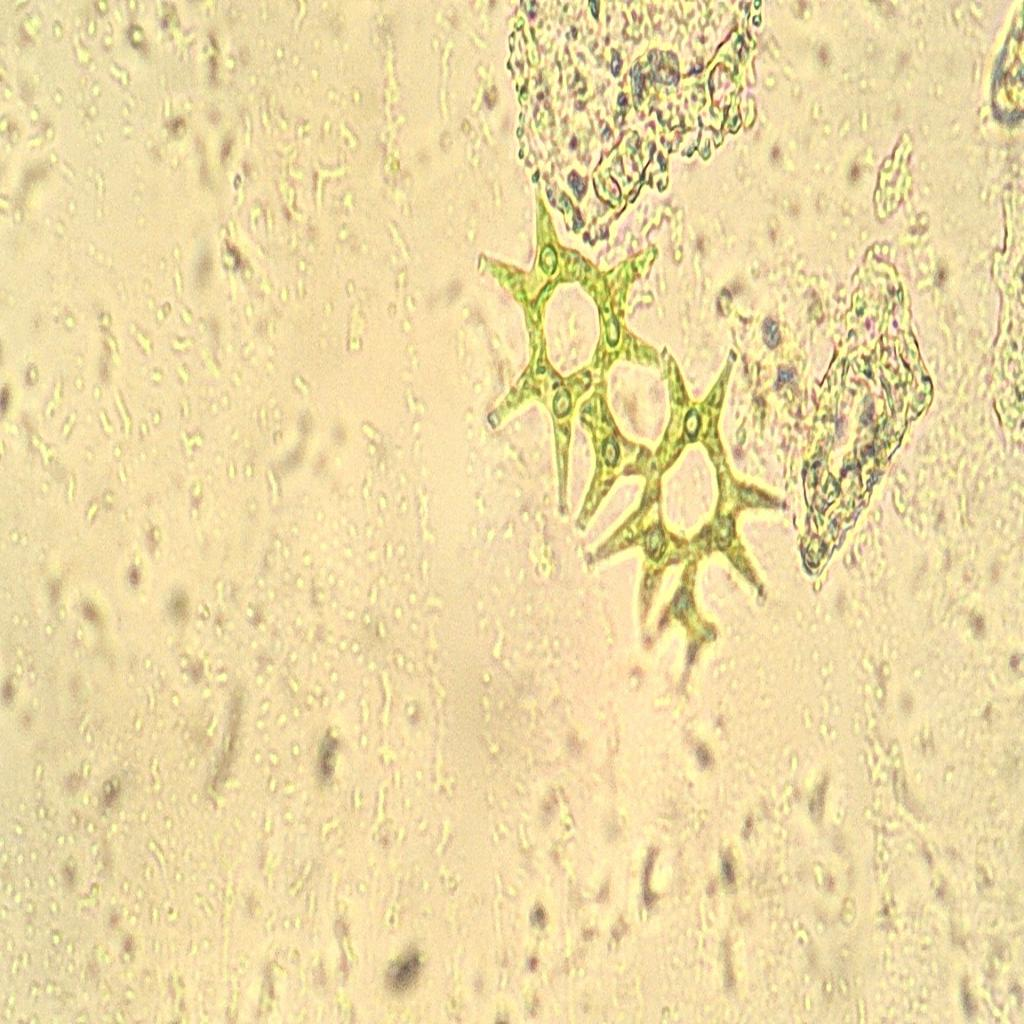Pediastrum_1TH: (462, 143, 796, 714)
